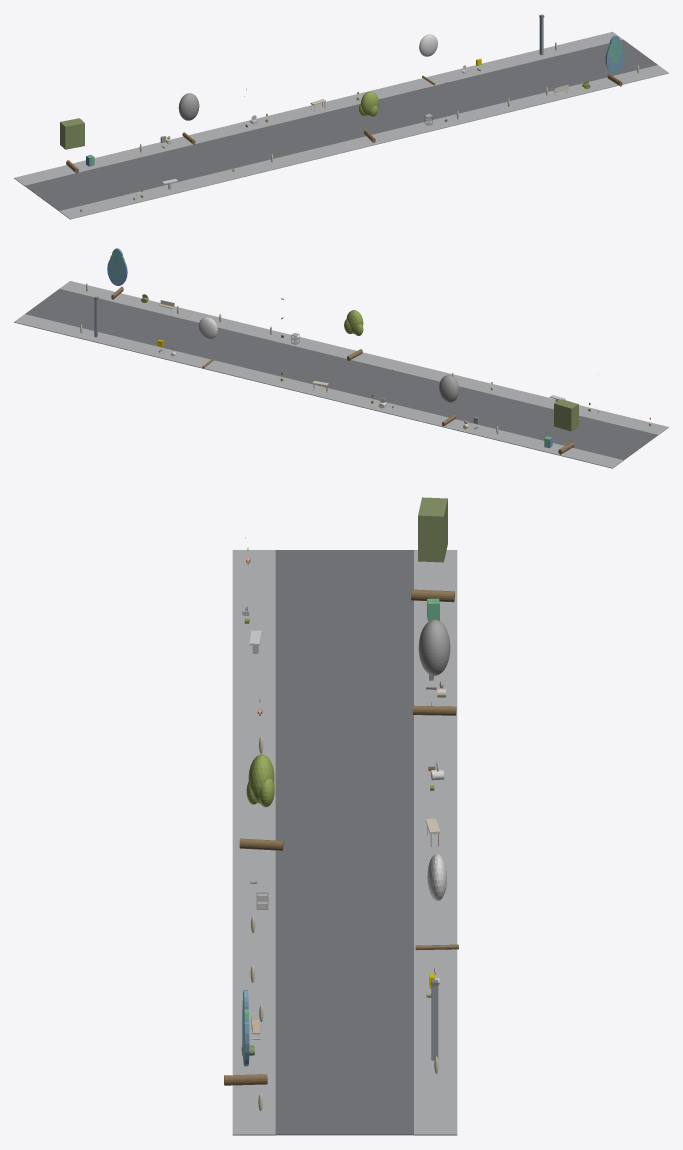
3 renders of one model, top to bottom at view 1: azimuth 30°, elevation 25°; view 2: azimuth 150°, elevation 25°; view 3: azimuth 270°, elevation 25°, orthographic. The views are drawn at different scales.
Visible parts, largest first — view 1: road_slab, sidewalk_left, sidewalk_right, inst_0012, inst_0016, inst_0013, inst_0014, inst_0015; view 2: road_slab, sidewalk_right, sidewalk_left, inst_0012, inst_0016, inst_0013, inst_0014, inst_0015; view 3: road_slab, sidewalk_left, sidewalk_right, inst_0012, inst_0013, inst_0014, inst_0016, inst_0015.
Boxes of the visible parts, left/top/right/bottom form: road_slab: left=25, top=39, right=657, bottom=210; sidewalk_left: left=59, top=65, right=668, bottom=219; sidewalk_right: left=14, top=31, right=622, bottom=185; inst_0012: left=60, top=118, right=84, bottom=173; inst_0016: left=605, top=35, right=624, bottom=86; inst_0013: left=178, top=93, right=199, bottom=144; inst_0014: left=359, top=91, right=378, bottom=142; inst_0015: left=419, top=34, right=437, bottom=85; road_slab: left=25, top=289, right=657, bottom=460; sidewalk_right: left=14, top=314, right=623, bottom=468; sidewalk_left: left=59, top=281, right=668, bottom=435; inst_0012: left=554, top=399, right=578, bottom=454; inst_0016: left=107, top=248, right=127, bottom=299; inst_0013: left=439, top=375, right=459, bottom=426; inst_0014: left=344, top=310, right=363, bottom=360; inst_0015: left=198, top=317, right=217, bottom=368; road_slab: left=275, top=550, right=413, bottom=1135; sidewalk_left: left=232, top=550, right=275, bottom=1135; sidewalk_right: left=414, top=550, right=457, bottom=1135; inst_0012: left=411, top=497, right=454, bottom=602; inst_0013: left=412, top=619, right=456, bottom=715; inst_0014: left=239, top=754, right=283, bottom=850; inst_0016: left=224, top=990, right=267, bottom=1085; inst_0015: left=415, top=854, right=458, bottom=949.
Size of the model in its own units: 80 by 6.08 by 13.59.
